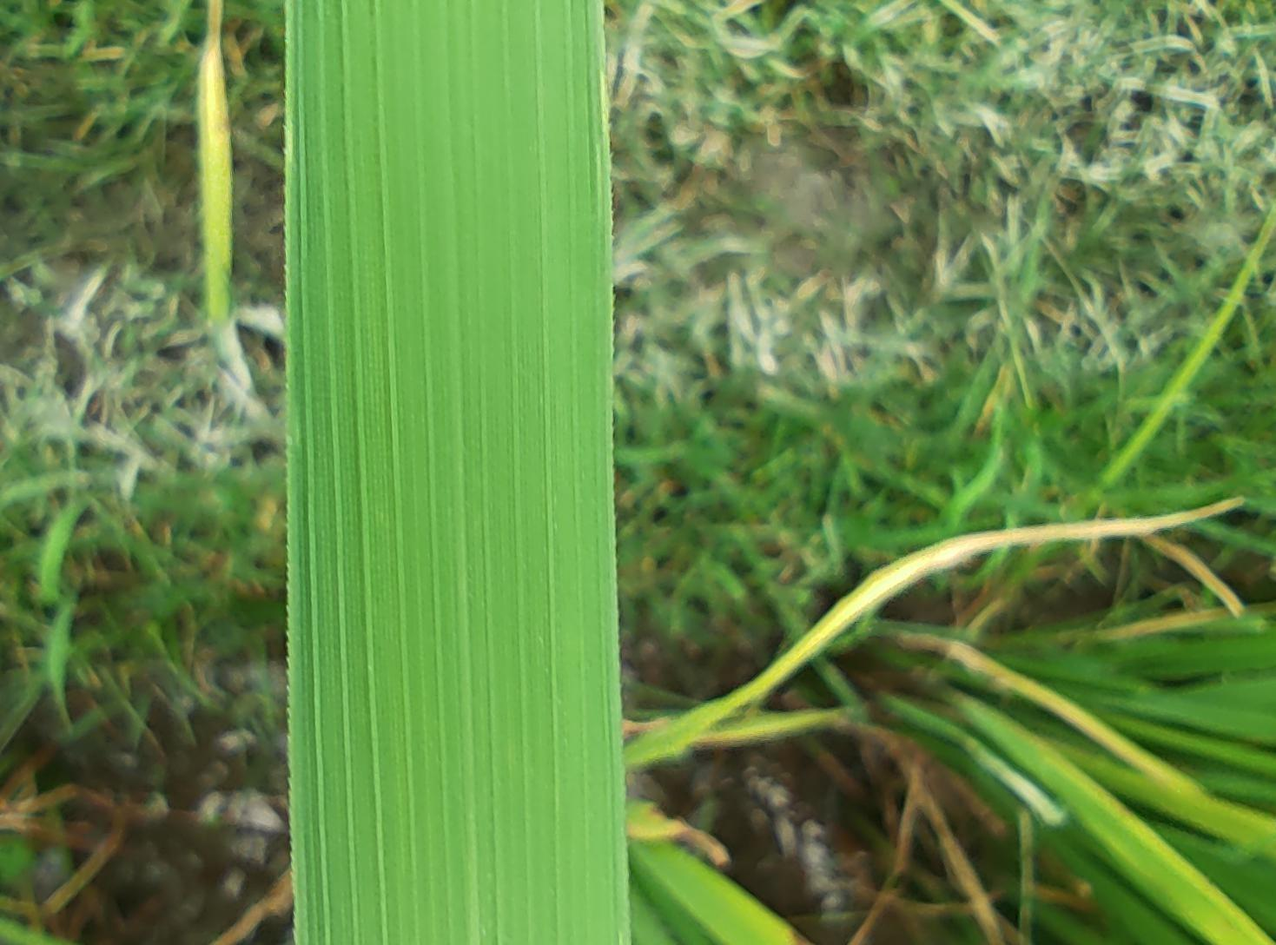Healthy: (285, 1, 630, 944)
